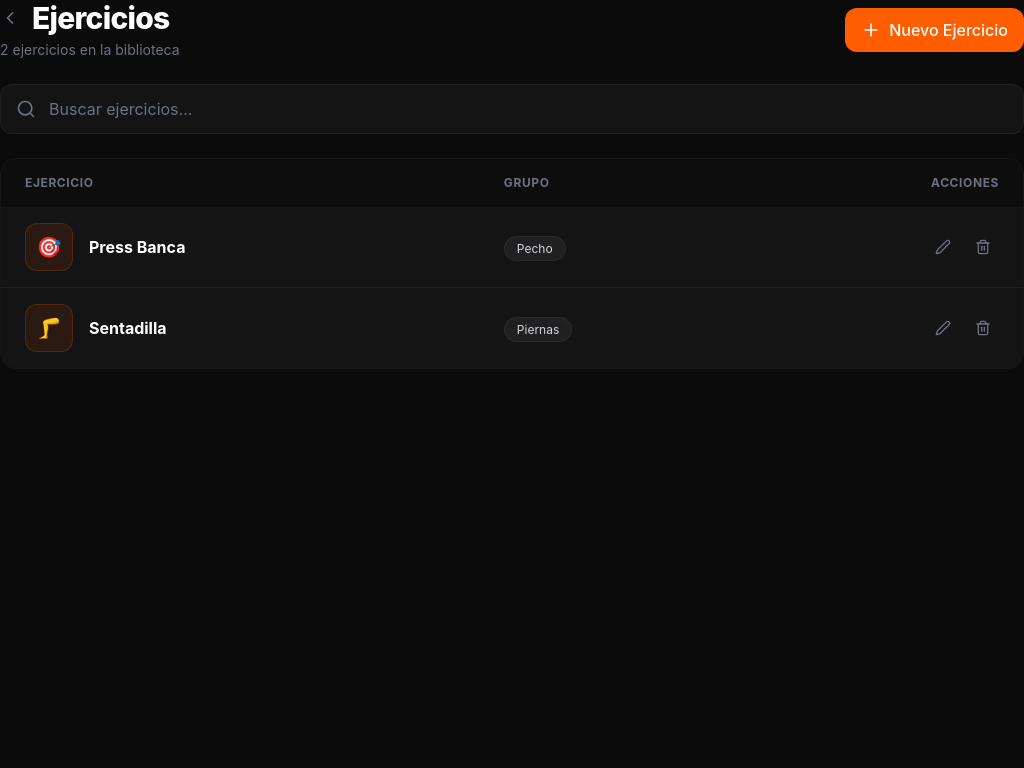
Scenario: AdminEjerciciosPage — catálogo sin nivel/tipo_lugar (R2/R3) › el select de grupo muscular ofrece la opción cuello (R3)
Expected: the text "Press Banca" is shown, [89, 233, 185, 261]
Click the button "Nuevo Ejercicio" at [935, 30], box [845, 8, 1023, 52]
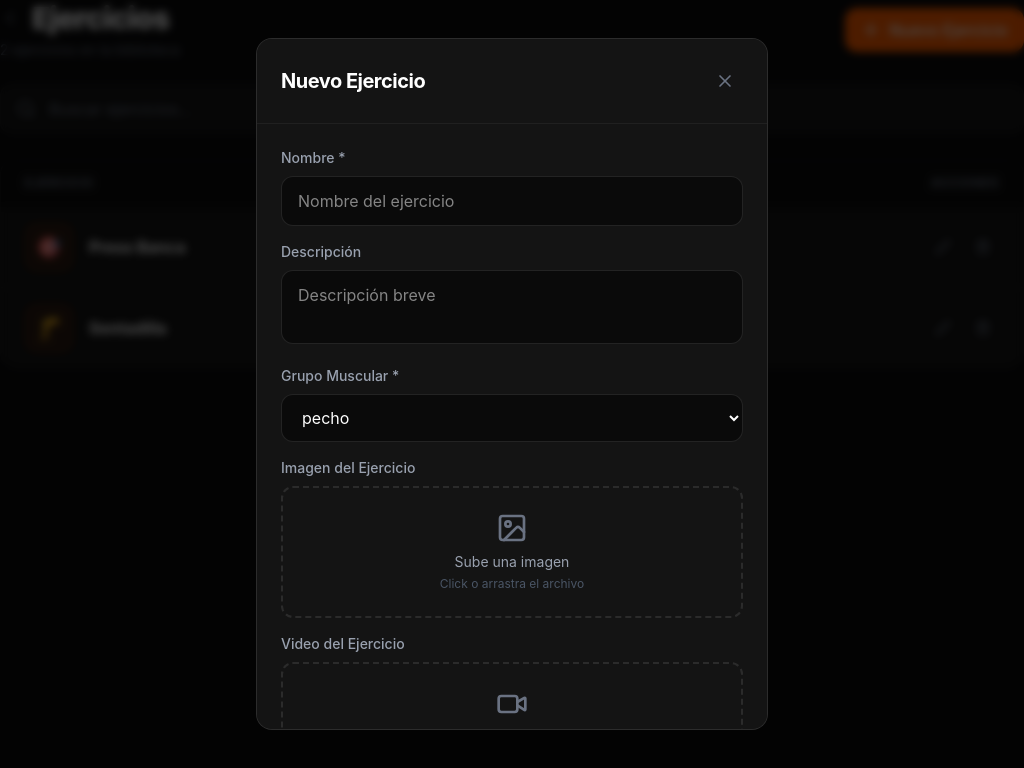
Result: the dropdown shows "pecho" at [281, 394, 743, 442]
